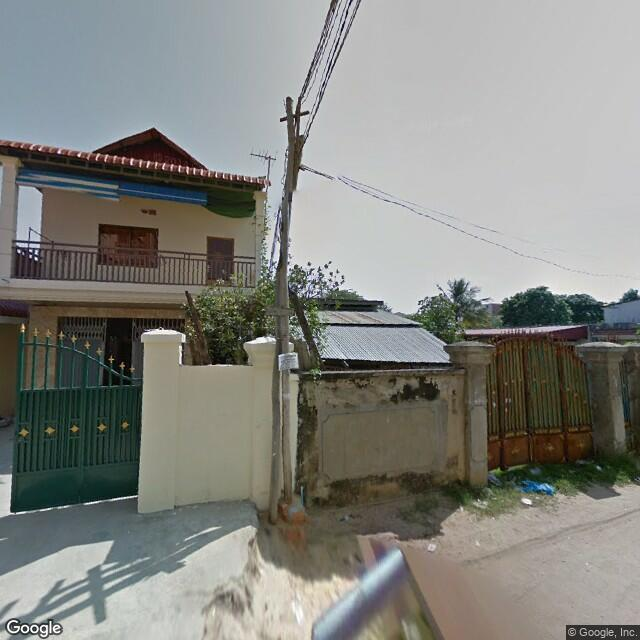litter: (513, 468, 569, 499), (421, 533, 442, 560)
